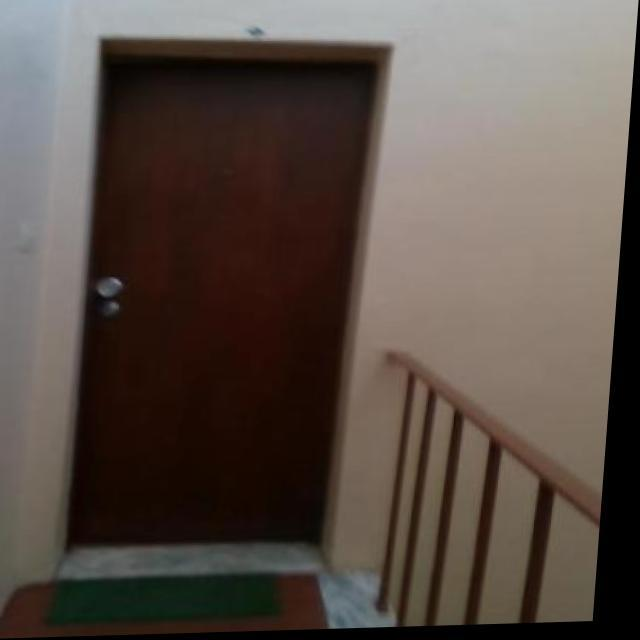door_handle: (96, 267, 141, 324)
